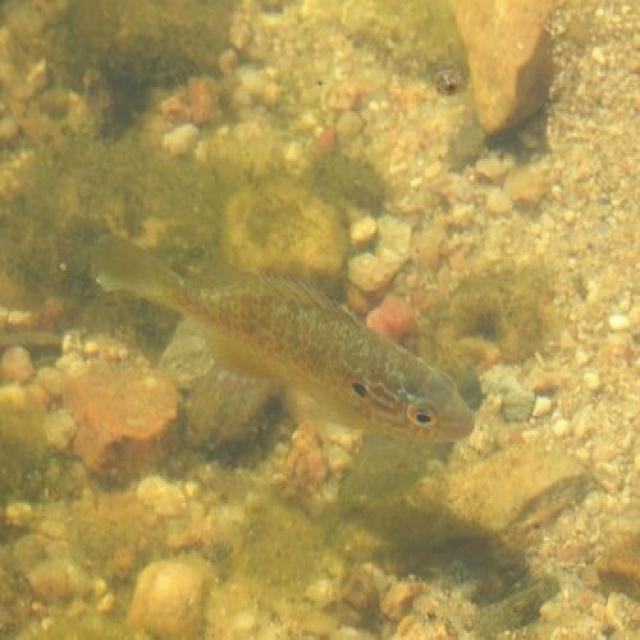Gunes Levregi: (95, 229, 478, 446)
